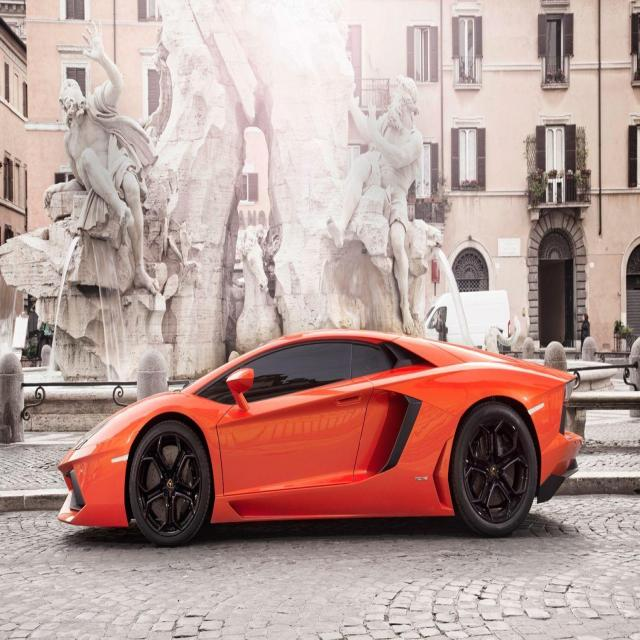Car: (34, 311, 585, 548)
